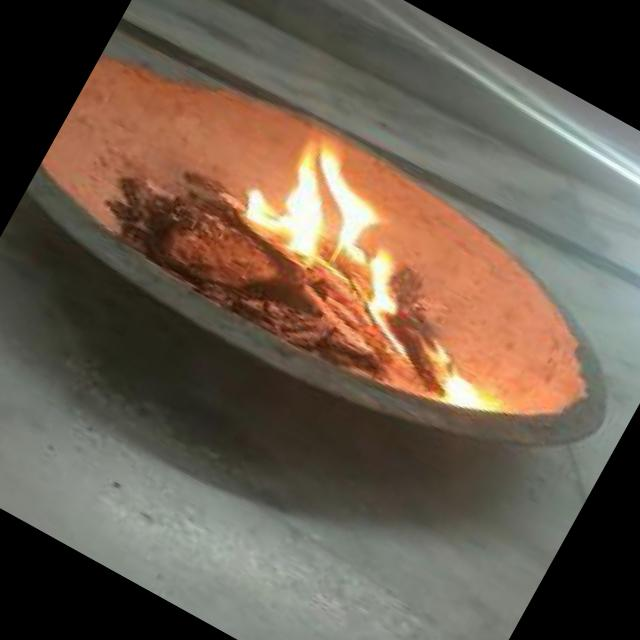fire: (194, 118, 560, 426)
